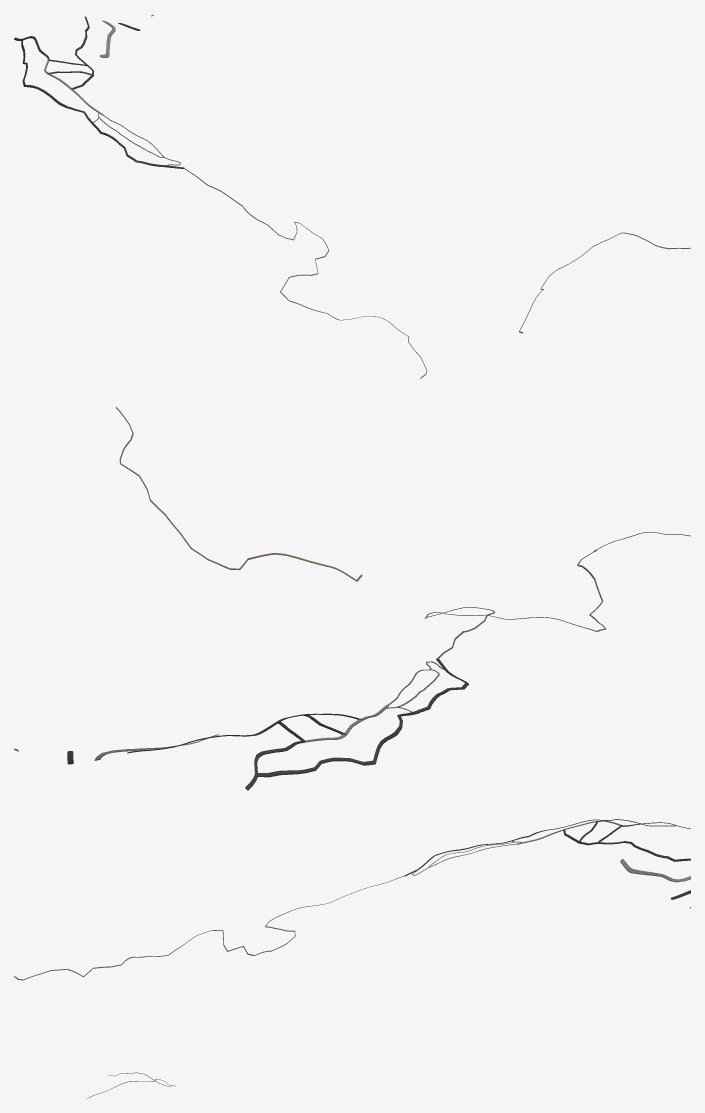
File: 15-27353-14866.faf85856.glb
3 renders of one model, top to bottom at view 1: azimuth 30°, elevation 25°; view 2: azimuth 150°, elevation 25°; view 3: azimuth 270°, elevation 25°, orthographic. The views are drawn at different scales.
Size of the model in its own units: 824 by 284 by 1166.
